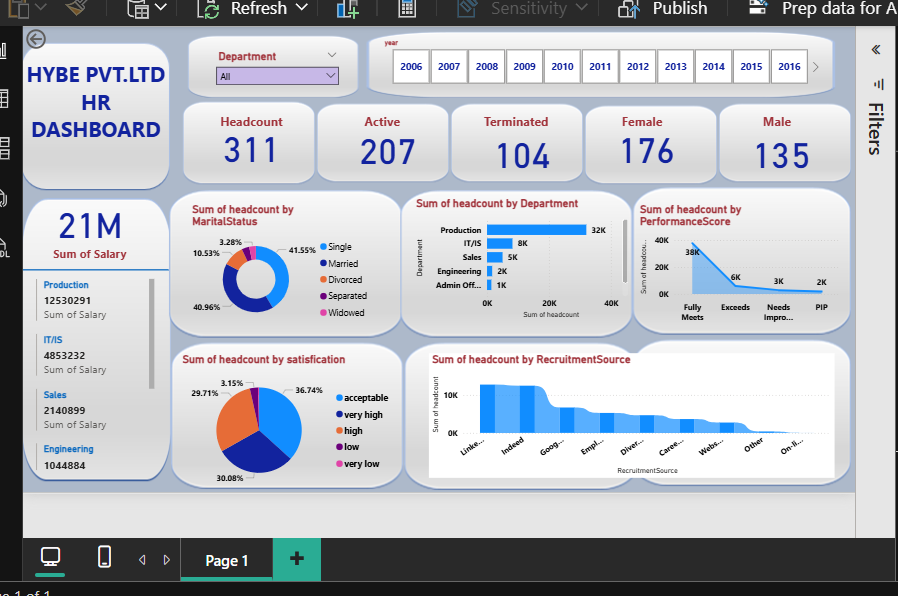

Layout of this report page (visuals, bound fields, positions):
{"tool":"powerbi","page":{"name":"Page 1","canvas":[1280,720],"ordinal":0},"visuals":[{"type":"slicer","fields":{"Values":["HRData.Department"]},"box":[288,32,208,64],"z":0},{"type":"slicer","fields":{"Values":["HRData.year"]},"box":[544,16,688,80],"z":1000},{"type":"actionButton","box":[0,0,100,40],"z":2000},{"type":"card","fields":{"Values":["CountNonNull(HRData.headcount)"]},"box":[256,112,192,144],"z":3000},{"type":"card","fields":{"Values":["CountNonNull(HRData.EmploymentStatus)"]},"box":[672,128,192,128],"z":4000},{"type":"card","fields":{"Values":["CountNonNull(HRData.Gender)"]},"box":[864,128,192,112],"z":5000},{"type":"card","fields":{"Values":["CountNonNull(HRData.Gender)"]},"box":[1072,128,192,128],"z":6000},{"type":"card","fields":{"Values":["CountNonNull(HRData.EmploymentStatus)"]},"box":[474,106,176,160],"z":7000},{"type":"donutChart","fields":{"Category":["HRData.MaritalStatus"],"Y":["Sum(HRData.headcount)"]},"box":[256,272,288,192],"z":8000},{"type":"clusteredBarChart","fields":{"Category":["HRData.Department"],"Y":["Sum(HRData.headcount)"]},"box":[600,264,336,192],"z":9000},{"type":"areaChart","fields":{"Category":["HRData.PerformanceScore"],"Y":["Sum(HRData.headcount)"]},"box":[944,272,320,192],"z":10000},{"type":"ribbonChart","fields":{"Category":["HRData.RecruitmentSource"],"Y":["Sum(HRData.headcount)"]},"box":[624,504,624,192],"z":11000},{"type":"pieChart","fields":{"Y":["Sum(HRData.headcount)"],"Category":["HRData.satisfication"]},"box":[240,504,336,216],"z":12000},{"type":"card","fields":{"Values":["Sum(HRData.Salary)"]},"box":[16,256,176,112],"z":13000},{"type":"shape","box":[0,368,224,16],"z":14000},{"type":"multiRowCard","fields":{"Values":["Sum(HRData.Salary)","HRData.Department"]},"box":[16,384,192,304],"z":15000},{"type":"textbox","box":[0,48,224,176],"z":16000},{"type":"textbox","box":[288,128,128,48],"z":17000},{"type":"textbox","box":[480,128,144,48],"z":18000},{"type":"textbox","box":[688,128,144,48],"z":19000},{"type":"textbox","box":[800,128,304,64],"z":20000},{"type":"textbox","box":[1056,128,208,48],"z":21000}]}

Visuals, with their boxes on the page's 1280x720 design canvas (x1, y1, x2, y2). These are canvas units, not pixel positions in the 898x596 screenshot, which may show the page scaled, cropped or inside an application window:
slicer - HRData.Department: {"left": 288, "top": 32, "right": 496, "bottom": 96}
slicer - HRData.year: {"left": 544, "top": 16, "right": 1232, "bottom": 96}
actionButton: {"left": 0, "top": 0, "right": 100, "bottom": 40}
card - CountNonNull(HRData.headcount): {"left": 256, "top": 112, "right": 448, "bottom": 256}
card - CountNonNull(HRData.EmploymentStatus): {"left": 672, "top": 128, "right": 864, "bottom": 256}
card - CountNonNull(HRData.Gender): {"left": 864, "top": 128, "right": 1056, "bottom": 240}
card - CountNonNull(HRData.Gender): {"left": 1072, "top": 128, "right": 1264, "bottom": 256}
card - CountNonNull(HRData.EmploymentStatus): {"left": 474, "top": 106, "right": 650, "bottom": 266}
donutChart - HRData.MaritalStatus x Sum(HRData.headcount): {"left": 256, "top": 272, "right": 544, "bottom": 464}
clusteredBarChart - HRData.Department x Sum(HRData.headcount): {"left": 600, "top": 264, "right": 936, "bottom": 456}
areaChart - HRData.PerformanceScore x Sum(HRData.headcount): {"left": 944, "top": 272, "right": 1264, "bottom": 464}
ribbonChart - HRData.RecruitmentSource x Sum(HRData.headcount): {"left": 624, "top": 504, "right": 1248, "bottom": 696}
pieChart - Sum(HRData.headcount) x HRData.satisfication: {"left": 240, "top": 504, "right": 576, "bottom": 720}
card - Sum(HRData.Salary): {"left": 16, "top": 256, "right": 192, "bottom": 368}
shape: {"left": 0, "top": 368, "right": 224, "bottom": 384}
multiRowCard - Sum(HRData.Salary) x HRData.Department: {"left": 16, "top": 384, "right": 208, "bottom": 688}
textbox: {"left": 0, "top": 48, "right": 224, "bottom": 224}
textbox: {"left": 288, "top": 128, "right": 416, "bottom": 176}
textbox: {"left": 480, "top": 128, "right": 624, "bottom": 176}
textbox: {"left": 688, "top": 128, "right": 832, "bottom": 176}
textbox: {"left": 800, "top": 128, "right": 1104, "bottom": 192}
textbox: {"left": 1056, "top": 128, "right": 1264, "bottom": 176}
